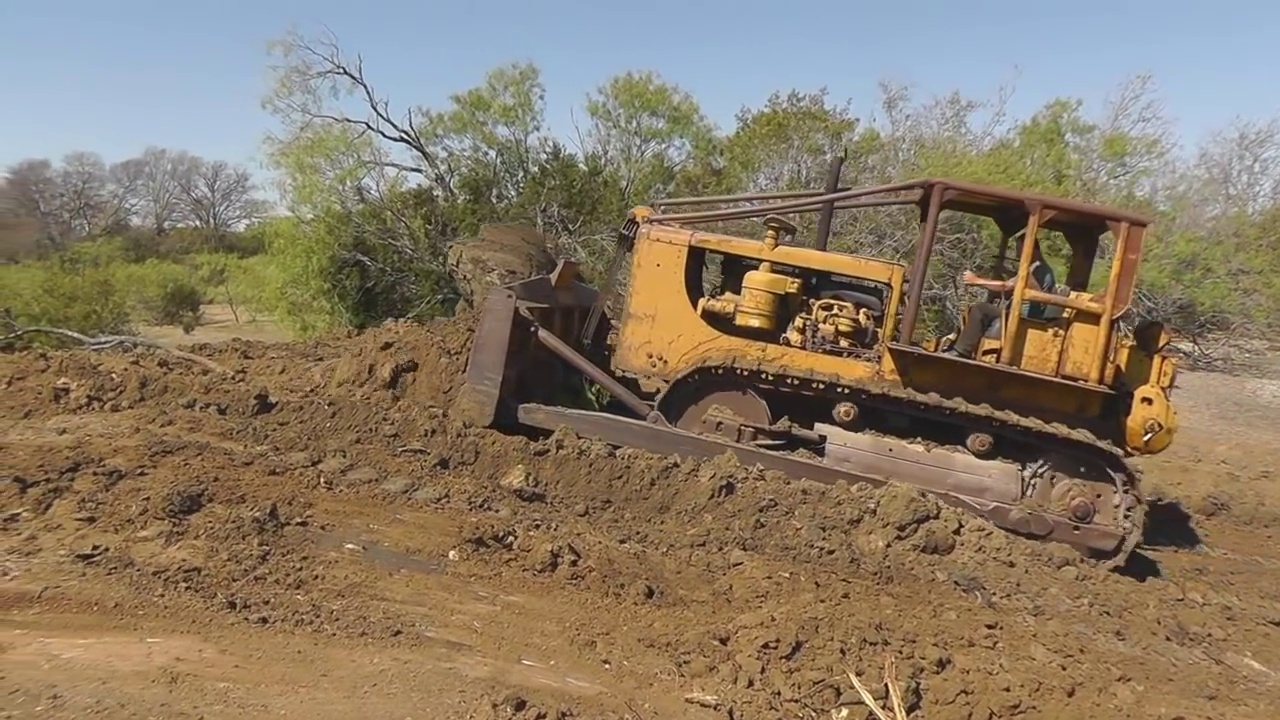bulldozer: (448, 161, 1180, 573)
person: (946, 232, 1057, 366)
